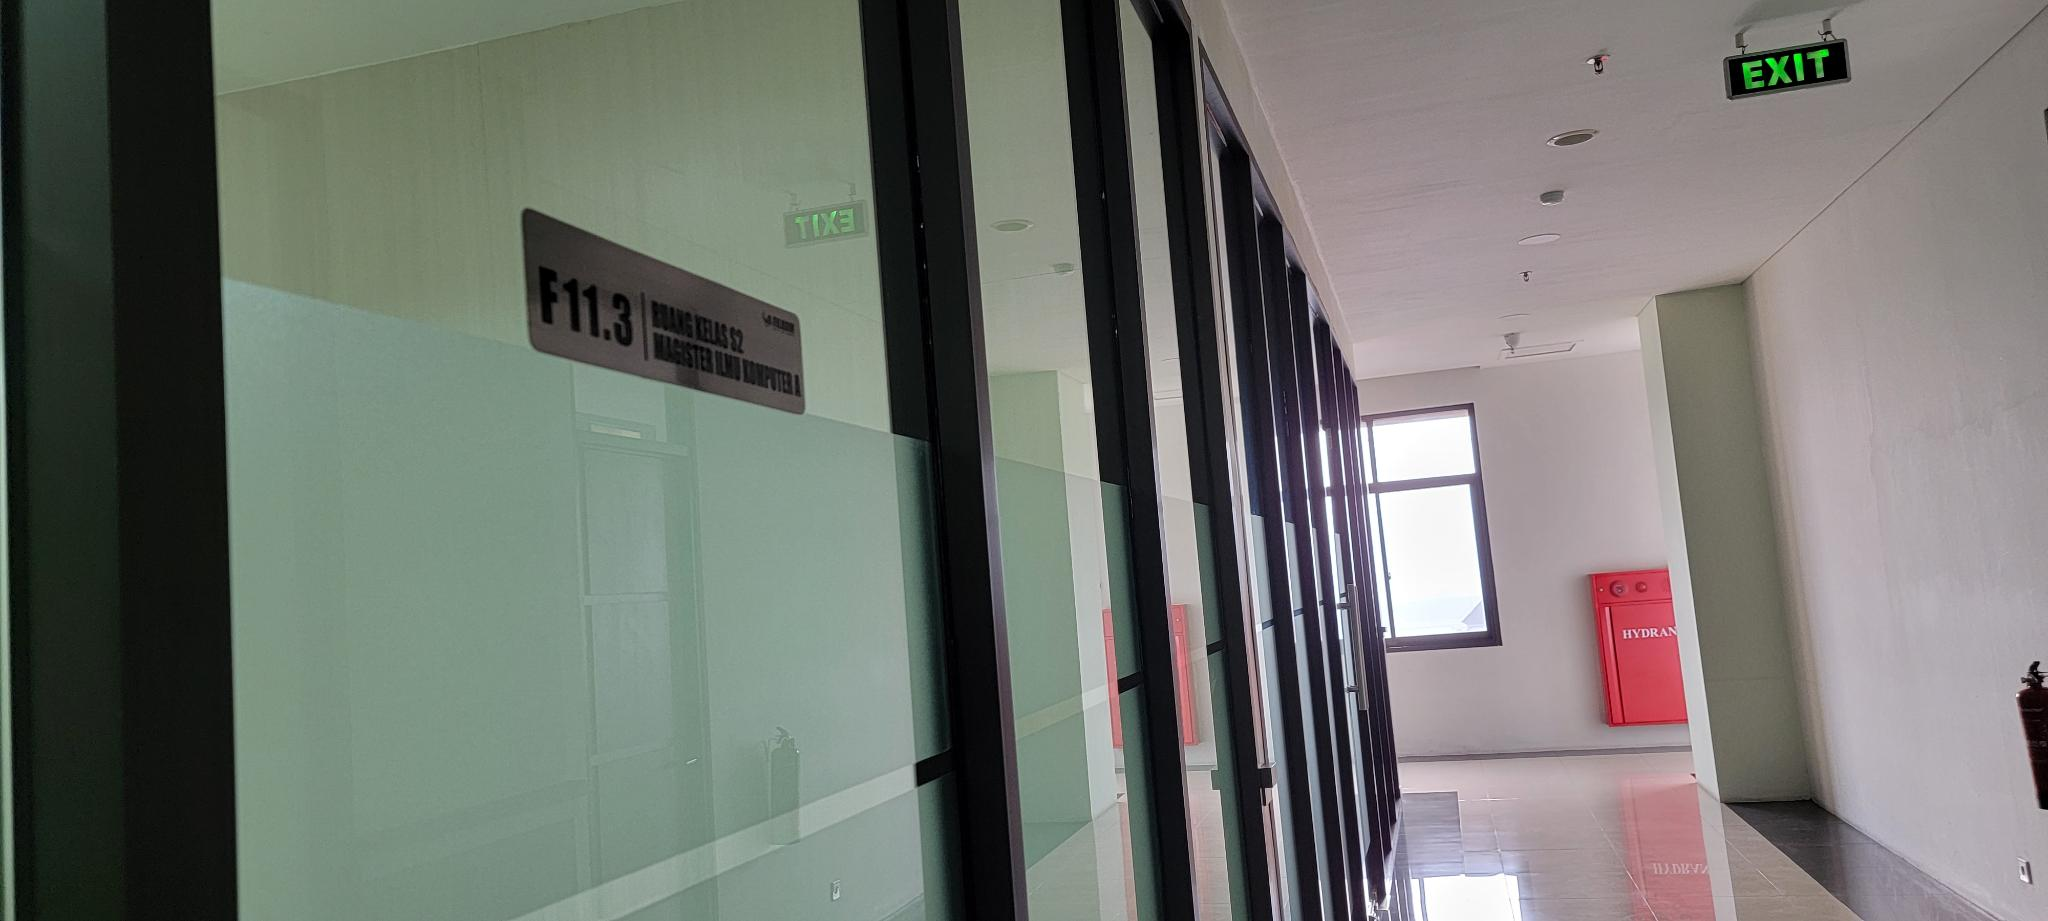plate: (520, 202, 807, 417)
